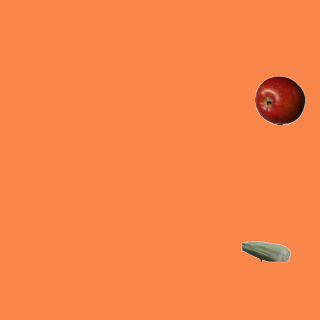Apple Braeburn: (254, 75, 304, 125)
Corn Husk: (240, 226, 290, 276)
